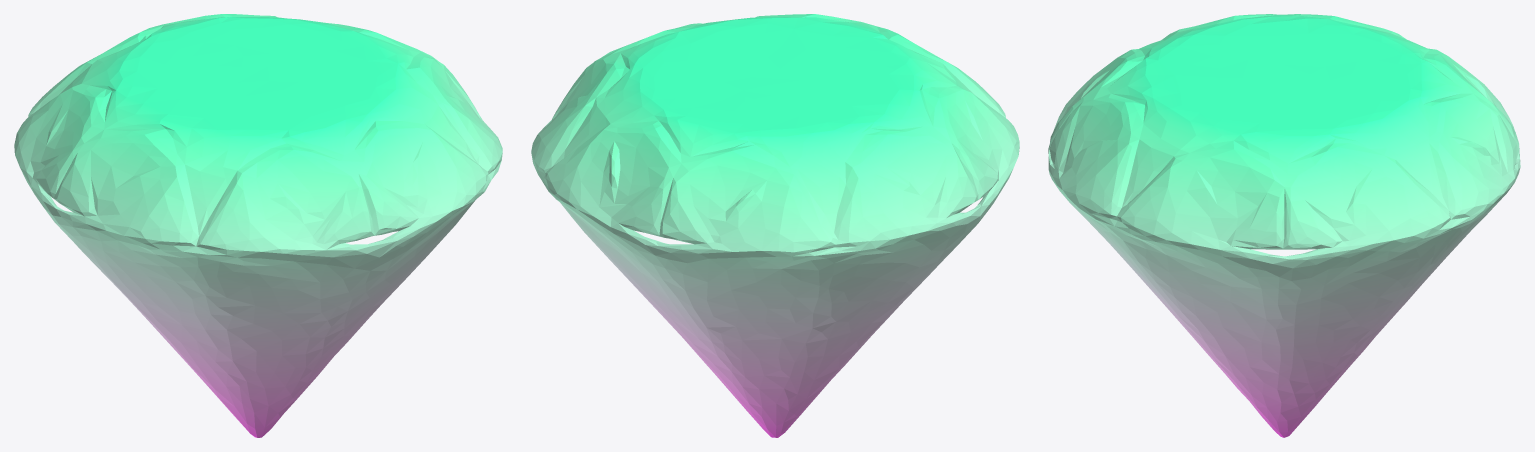
The model's file is 30_cyb_laser_gradient_fish_scales_2793_2026_10_03_6f7e99.glb.
3 renders of one model, left to right at view 1: azimuth 30°, elevation 25°; view 2: azimuth 150°, elevation 25°; view 3: azimuth 270°, elevation 25°, orthographic.
Visible parts, largest first — view 1: geometry_0; view 2: geometry_0; view 3: geometry_0.
Part boxes in pixels (x1,y1,x2,y2): geometry_0: [14, 14, 502, 437]; geometry_0: [531, 14, 1019, 437]; geometry_0: [1048, 14, 1520, 437].
Bounding box in the file's own units: 1 × 0.8414 × 1.
